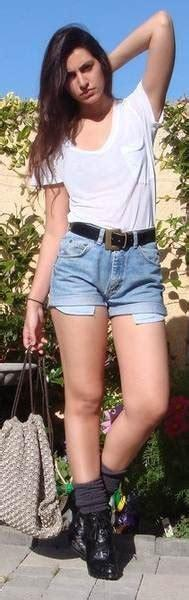Tshirt: (30, 82, 165, 232)
short: (47, 223, 170, 323)
